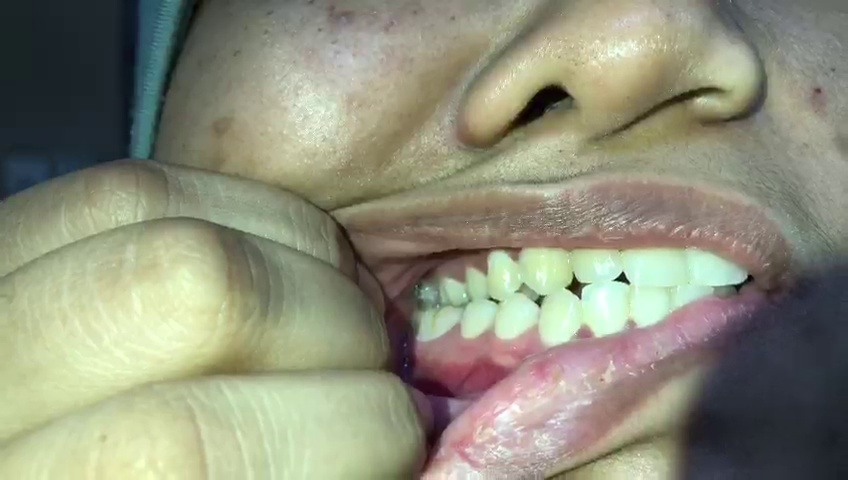1st Molar: (434, 305, 461, 342), (446, 274, 467, 305)
1st Premolar: (495, 293, 540, 342), (487, 250, 523, 304)
2nd Molar: (416, 271, 443, 306), (414, 306, 435, 342)
2nd Premolar: (462, 298, 496, 339), (465, 267, 490, 302)
Canine: (518, 239, 573, 296), (539, 286, 581, 347)
Lateral Incisor: (582, 281, 631, 339)
